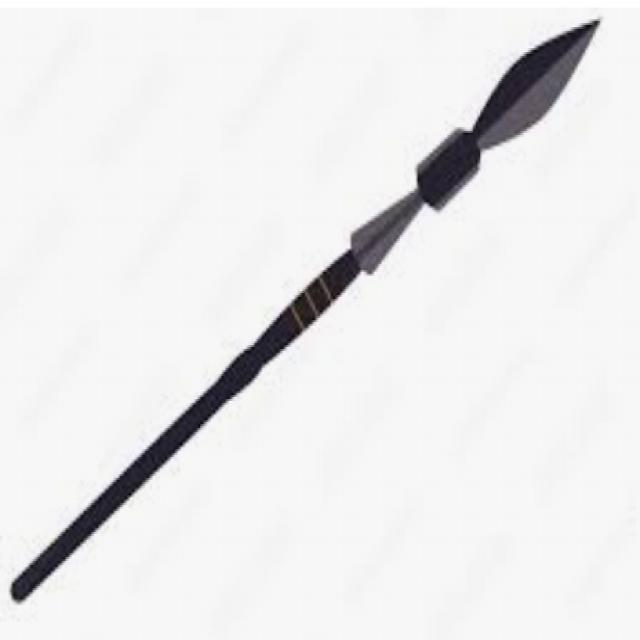spear: (11, 4, 608, 621)
